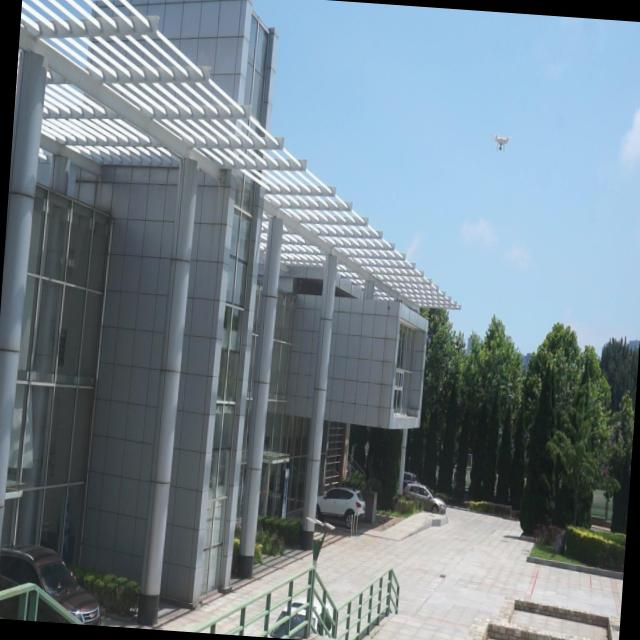drone: (490, 130, 512, 154)
